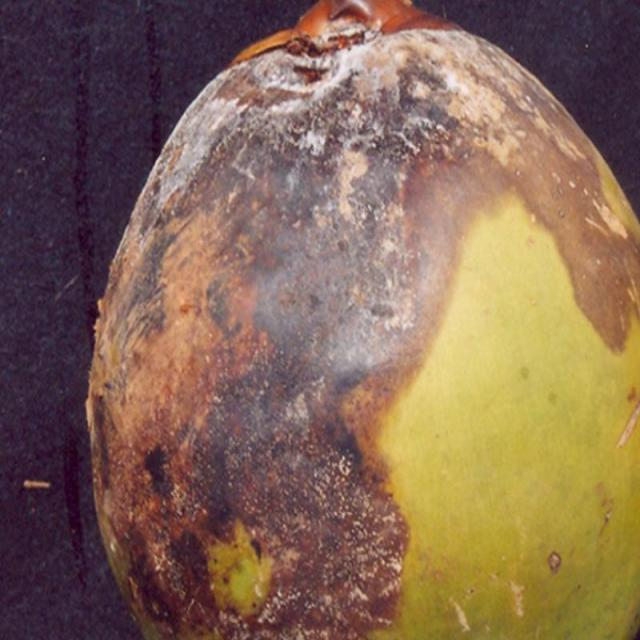damaged: (86, 0, 639, 639)
